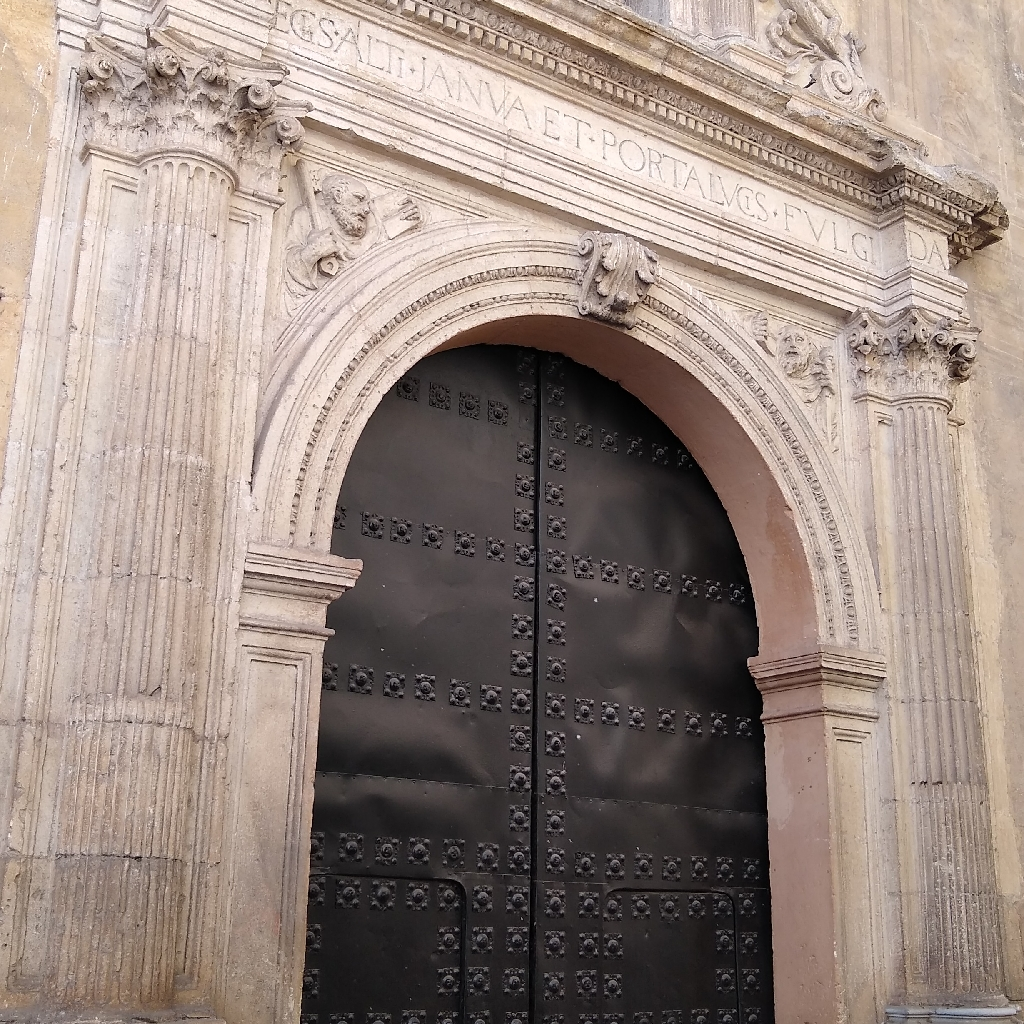arco-medio-punto: (304, 301, 844, 726)
